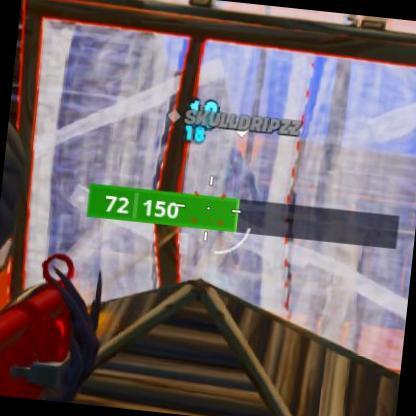person: (189, 145, 280, 292)
